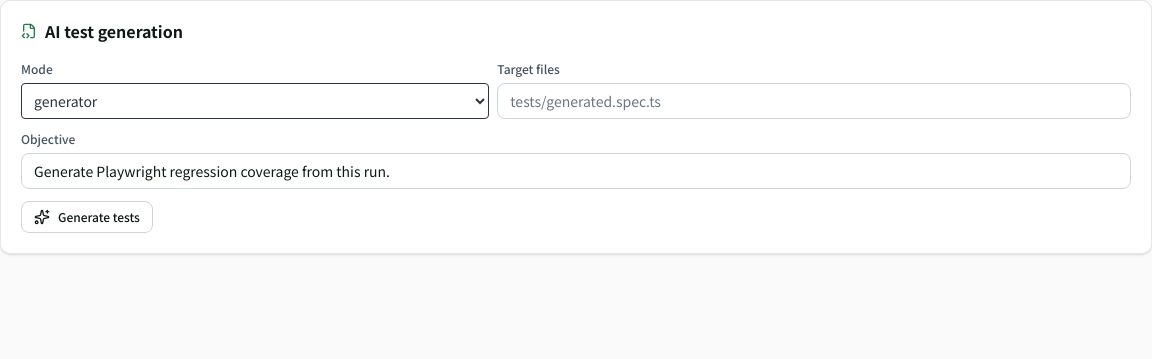
AiTestGenerationPanel › error 時は Alert と console.error の両方
What coordinates should you click on to do the following:
click the button "Generate tests"
I would click on:
 (87, 217)
Its box is top-left (21, 201), bottom-right (153, 233).
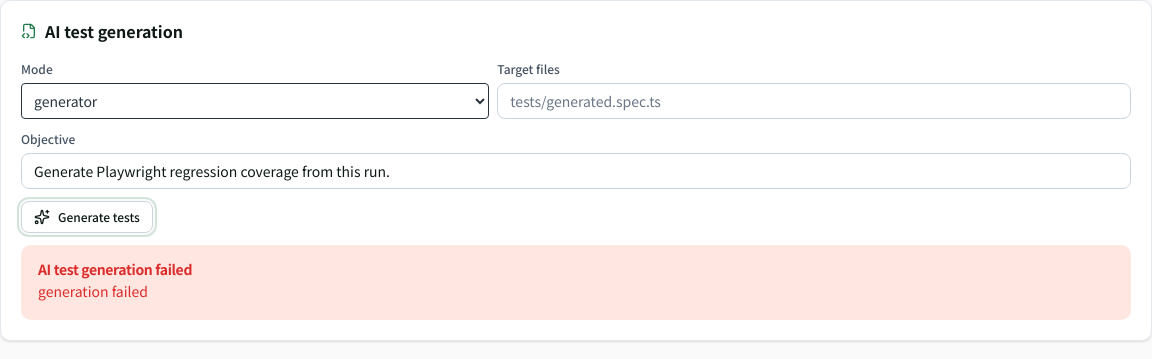
Now the heading "AI test generation failed" is shown, box top-left (38, 259), bottom-right (192, 279)
Now the text "generation failed" is shown, box top-left (38, 281), bottom-right (148, 301)
